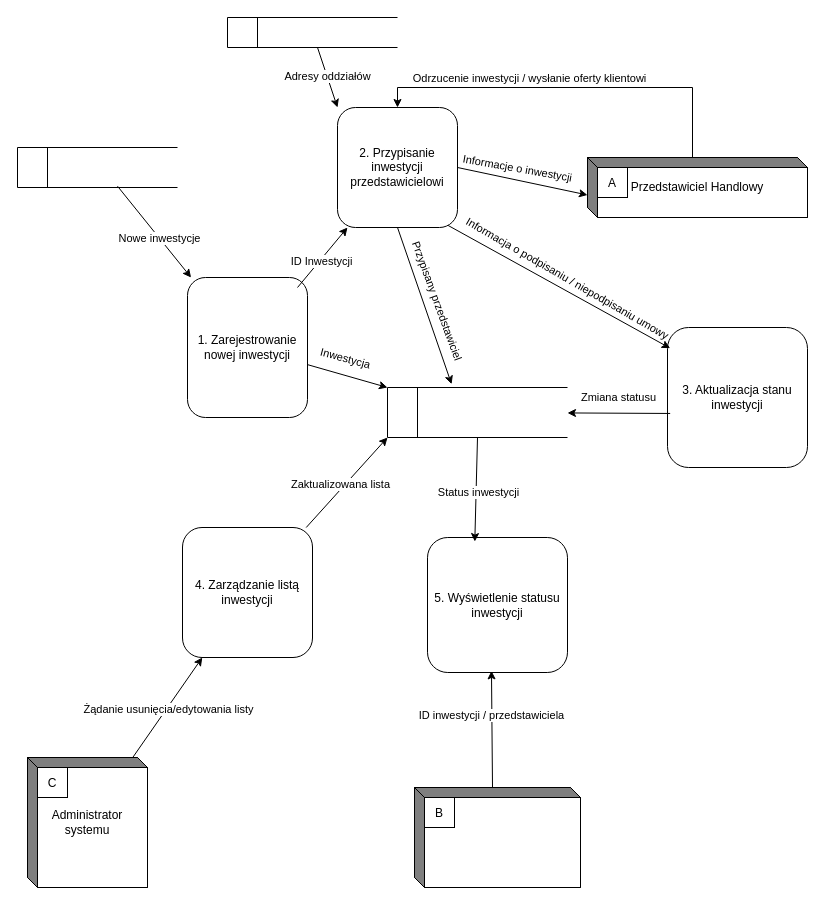
Image size: 825x905. Some labels were removed from this diagram. The shapes that lost their labels are listed below. From the top down, each one's box as (x1, y1, x2, y2) in pixels, then its label:
(226, 16, 398, 48): D2 Firmowa lista oddziałów
(16, 146, 178, 188): D1 Krajowa lista inwestycji
(386, 386, 568, 438): D3 Firmowa lista inwestycji
(414, 786, 580, 888): Dyrektor Regionalny
